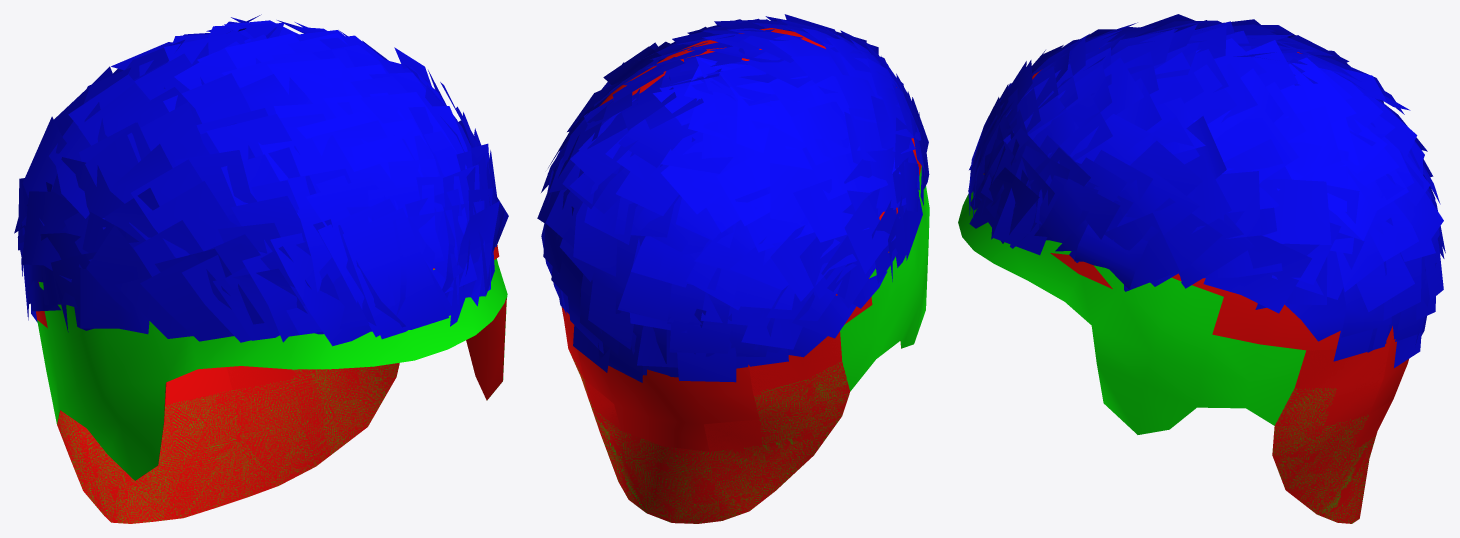
The model's file is hair_003.obj.
3 renders of one model, left to right at view 1: azimuth 30°, elevation 25°; view 2: azimuth 150°, elevation 25°; view 3: azimuth 270°, elevation 25°, orthographic. The views are drawn at different scales.
Size of the model in its own units: 16.7 by 21.16 by 19.96.
